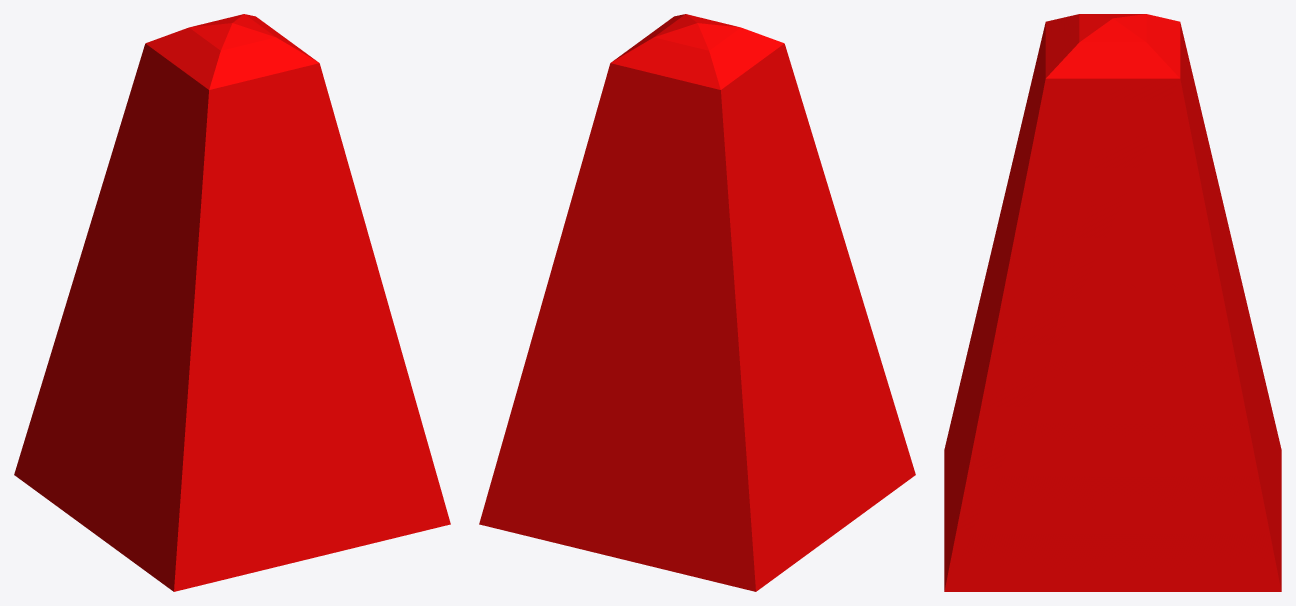
The model's file is UmbrellaBranch.fbx.
The picture shows the model from 3 angles, left to right: view 1: azimuth 30°, elevation 25°; view 2: azimuth 150°, elevation 25°; view 3: azimuth 270°, elevation 25°; orthographic projection. The views are drawn at different scales.
Visible parts, largest first — view 1: Model; view 2: Model; view 3: Model.
Boxes of the visible parts, bbox=[...] form: Model: bbox=[14, 14, 450, 591]; Model: bbox=[479, 14, 915, 591]; Model: bbox=[944, 14, 1281, 591].
Bounding box in the file's own units: 11.28 × 18.56 × 11.28.
